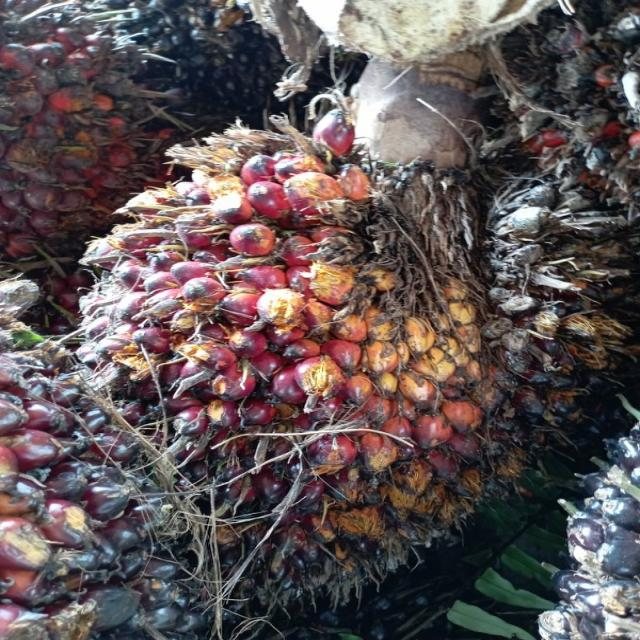fraksi 1: (70, 24, 640, 586)
